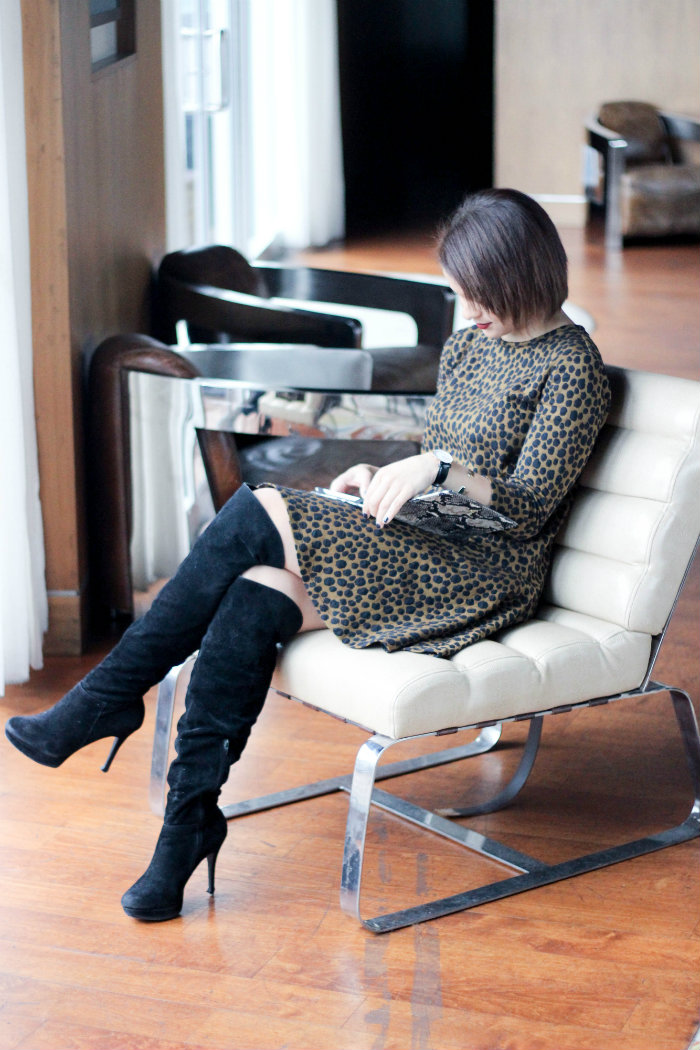C_dress: (283, 313, 621, 675)
S_boots: (18, 470, 310, 942)
